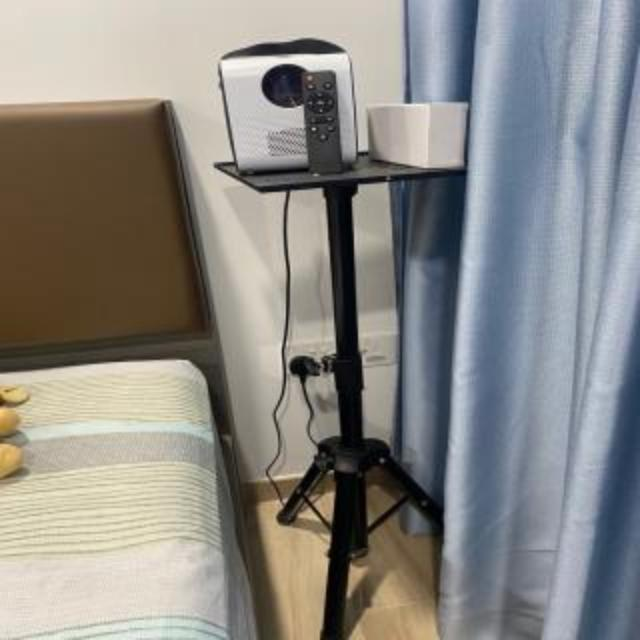Projector: (220, 36, 358, 178)
